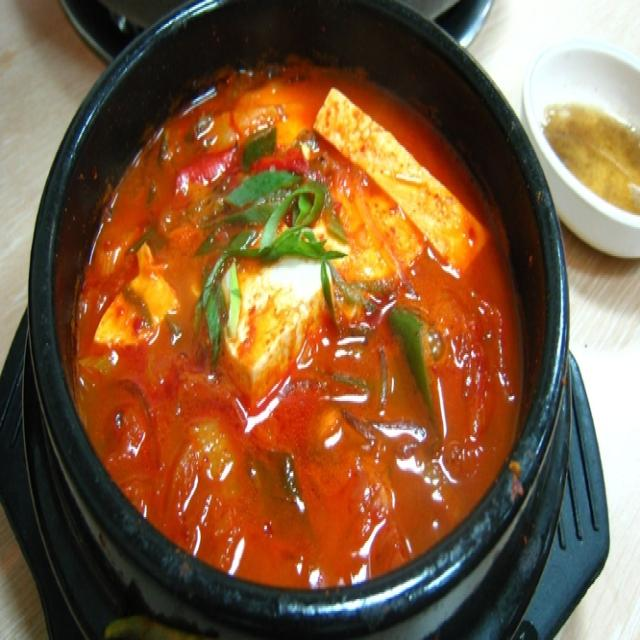汤锅炖物: (45, 24, 559, 604)
